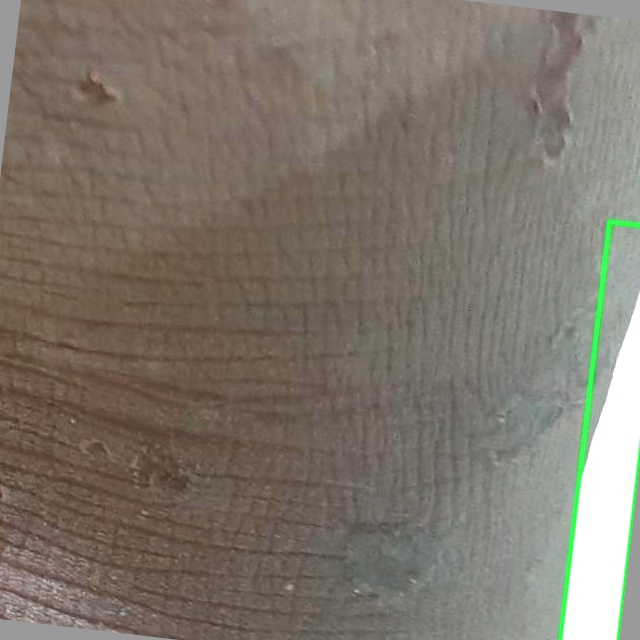Contact Dermatitis: (560, 222, 639, 639)
